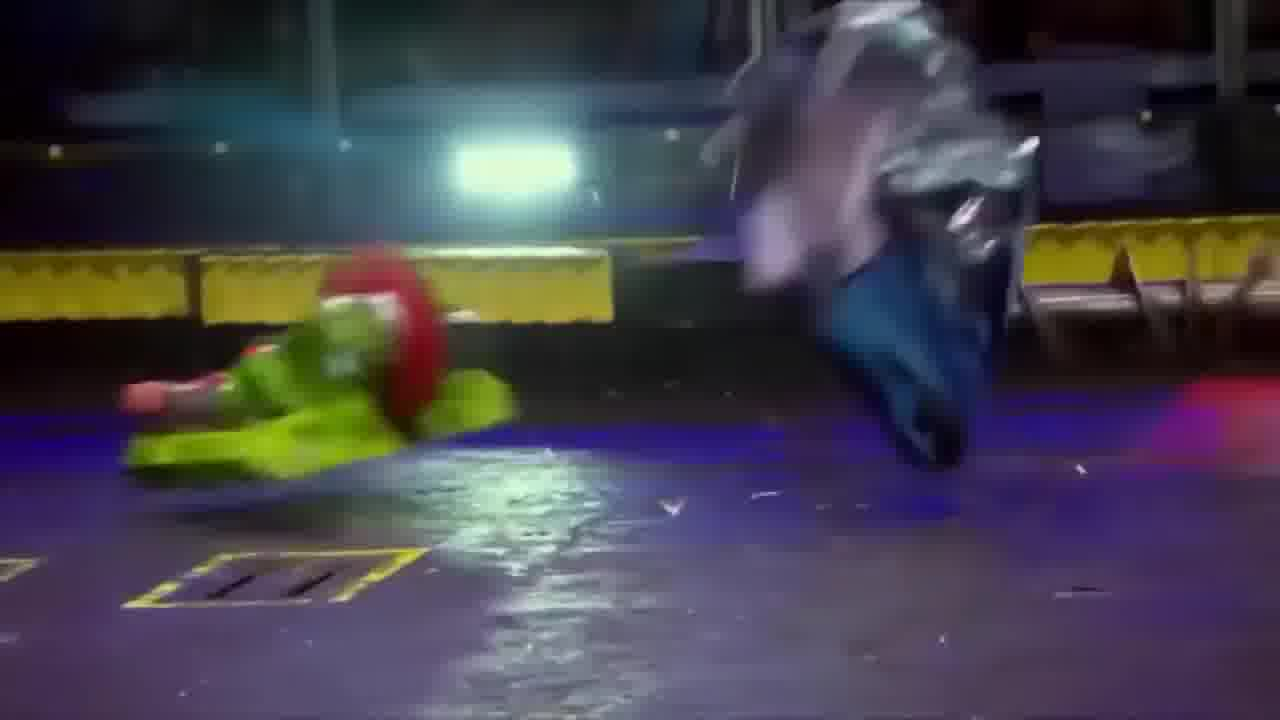combatbot: (698, 0, 1043, 476), (113, 237, 524, 495)
